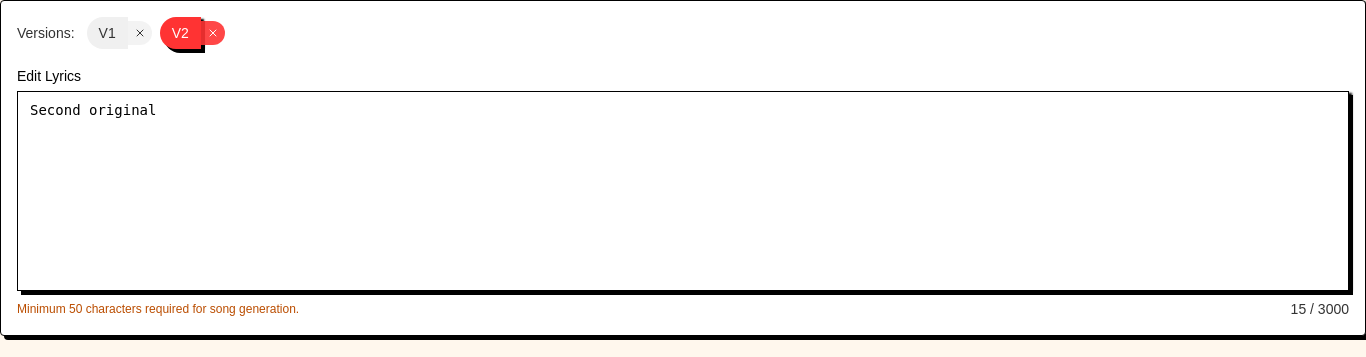
Version Switching Unit Tests › Loading edited vs original lyrics › should load original lyrics for unedited version
The width and height of the screenshot is (1366, 357).
Note: Switch to version 1 (unedited)
Click the tab "V1": [107, 33] box [87,17,128,49]
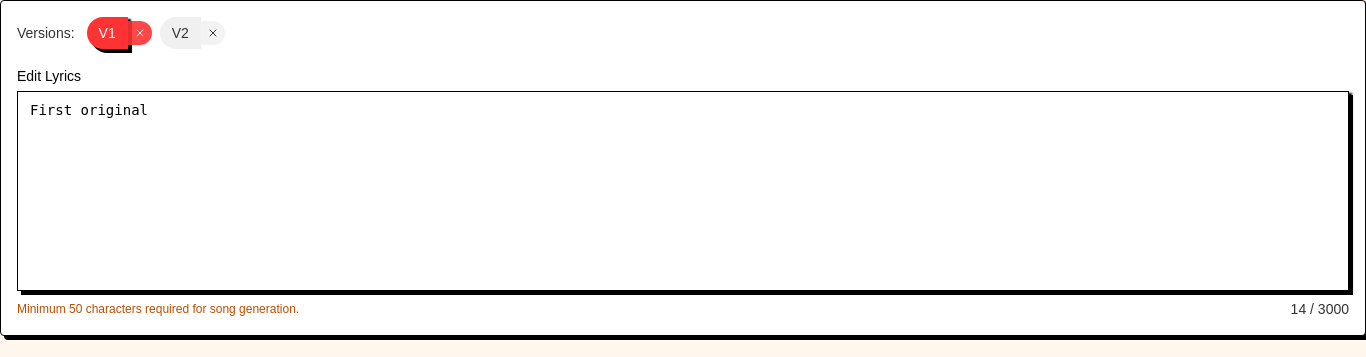
Expected: the text box holds "First original", [17,91,1349,291]
